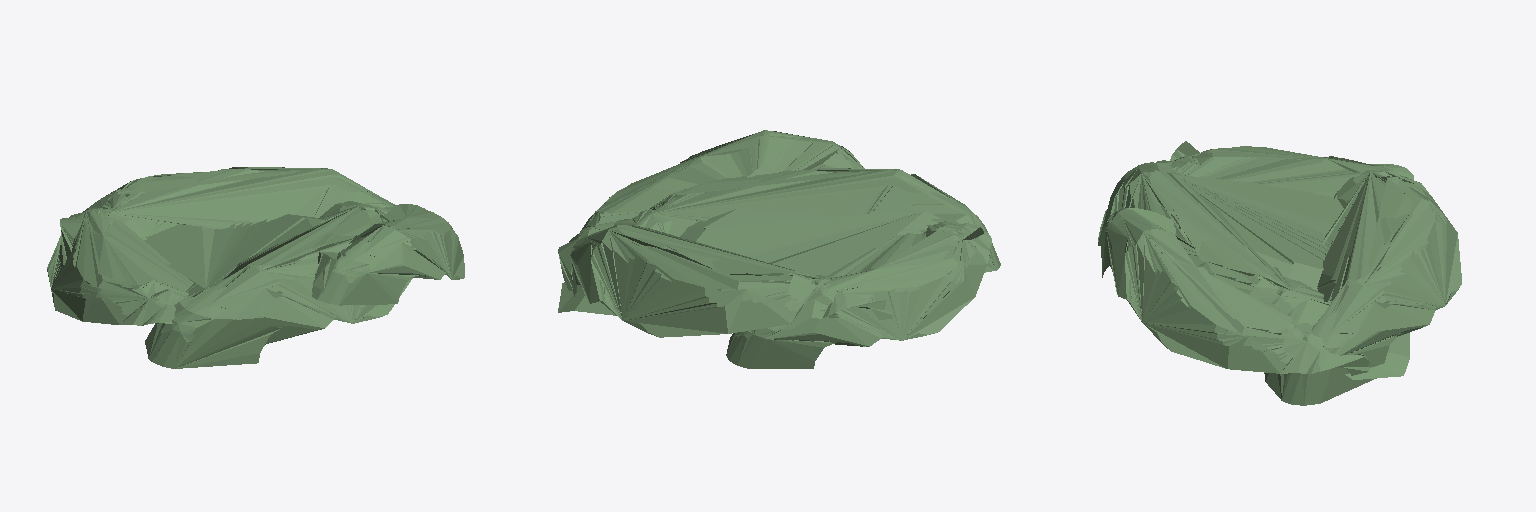
File: STAGELP.obj
3 views of the same model, side by side, from view 1: azimuth 30°, elevation 25°; view 2: azimuth 150°, elevation 25°; view 3: azimuth 270°, elevation 25° (orthographic).
Visible parts, largest first — view 1: stage; view 2: stage; view 3: stage.
Part boxes in pixels (left/top/right/bottom): stage: left=47, top=167, right=464, bottom=368; stage: left=558, top=130, right=1000, bottom=368; stage: left=1098, top=141, right=1461, bottom=405.
Bounding box in the file's own units: 20.03 × 6.06 × 16.61.